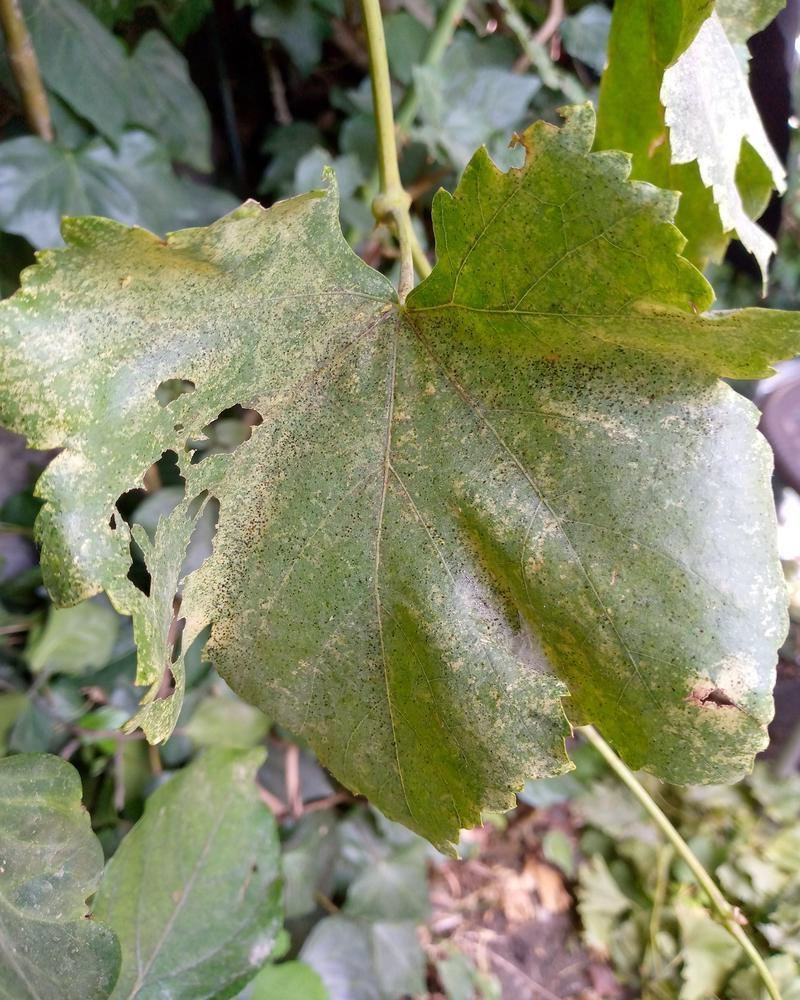Powdery-Mildew: (680, 397, 780, 681), (34, 280, 215, 417), (267, 271, 386, 412), (453, 567, 572, 700), (480, 444, 579, 545), (221, 208, 284, 271)
